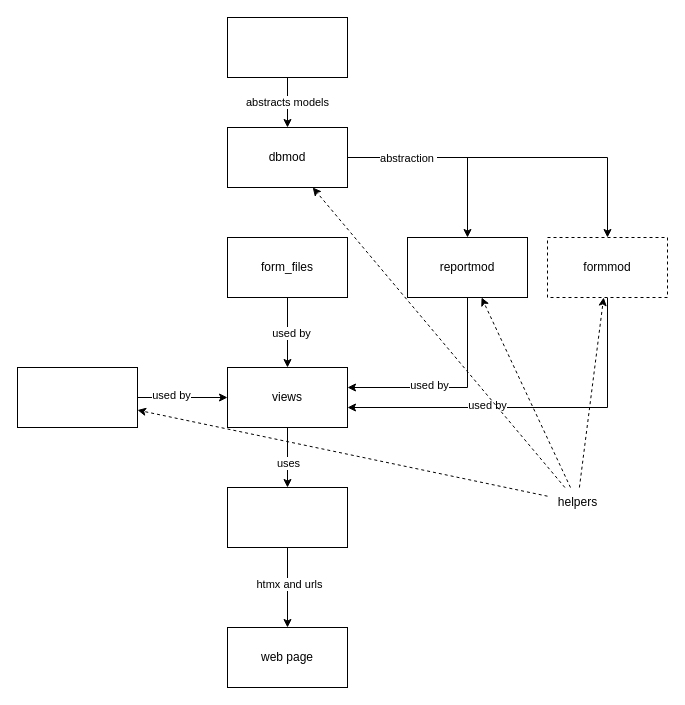
This 685x705 diagram has some shape labels left out. Here are the shapes that lost their labels. From the top down, the box of each, then its label:
(226, 16, 348, 78): models
(16, 366, 138, 428): mappings
(226, 486, 348, 548): templates
